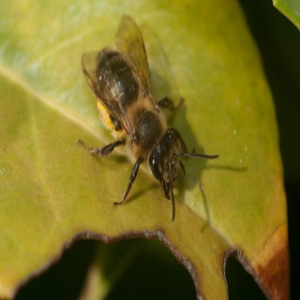bee: (81, 13, 218, 225)
